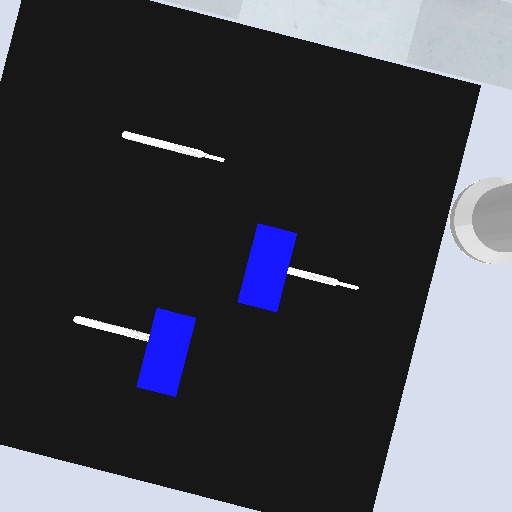bisturi: (119, 127, 228, 166), (70, 313, 153, 345), (284, 264, 362, 293)
